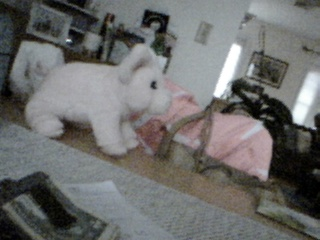piggy: (24, 40, 173, 160)
